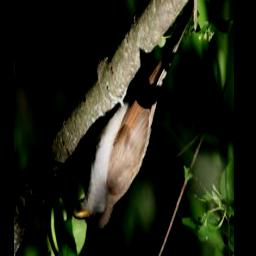Cuckoo: (73, 0, 200, 232)
